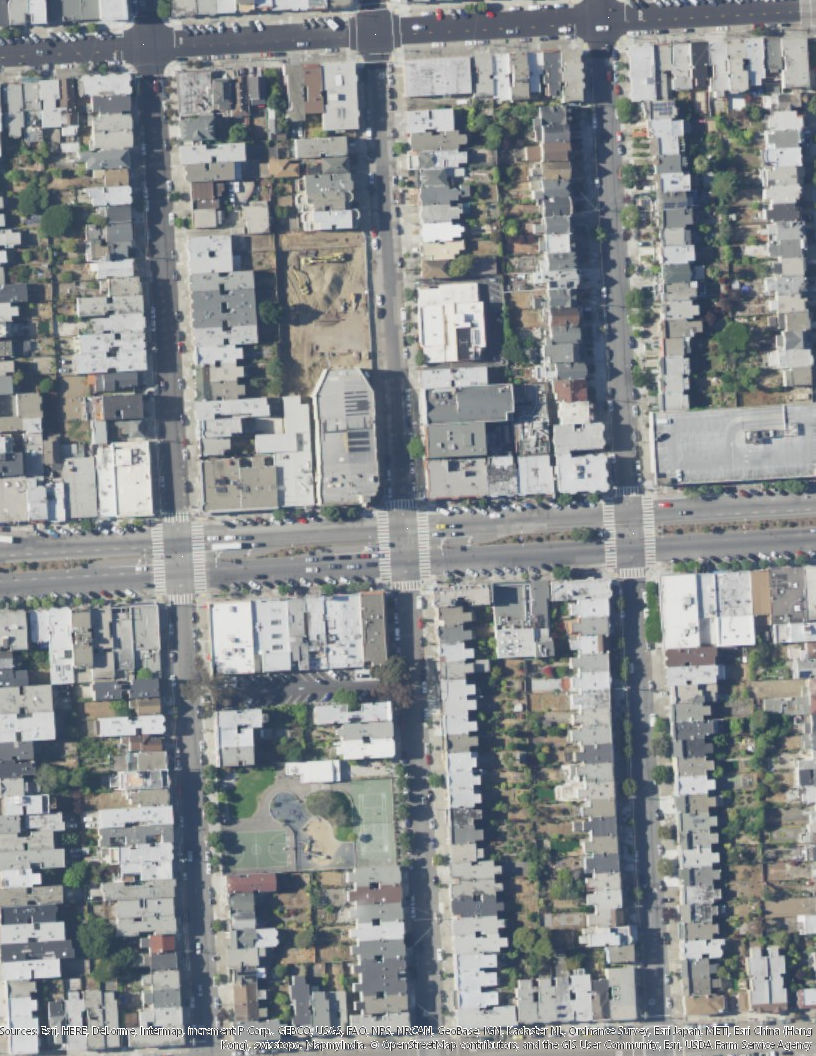zebracross: (414, 511, 434, 579), (639, 496, 658, 567), (375, 510, 393, 583), (149, 523, 168, 592), (190, 525, 209, 592), (602, 499, 618, 565), (169, 590, 194, 607), (158, 511, 192, 523), (395, 578, 421, 593), (620, 565, 647, 579), (385, 500, 416, 511), (615, 486, 643, 496)
